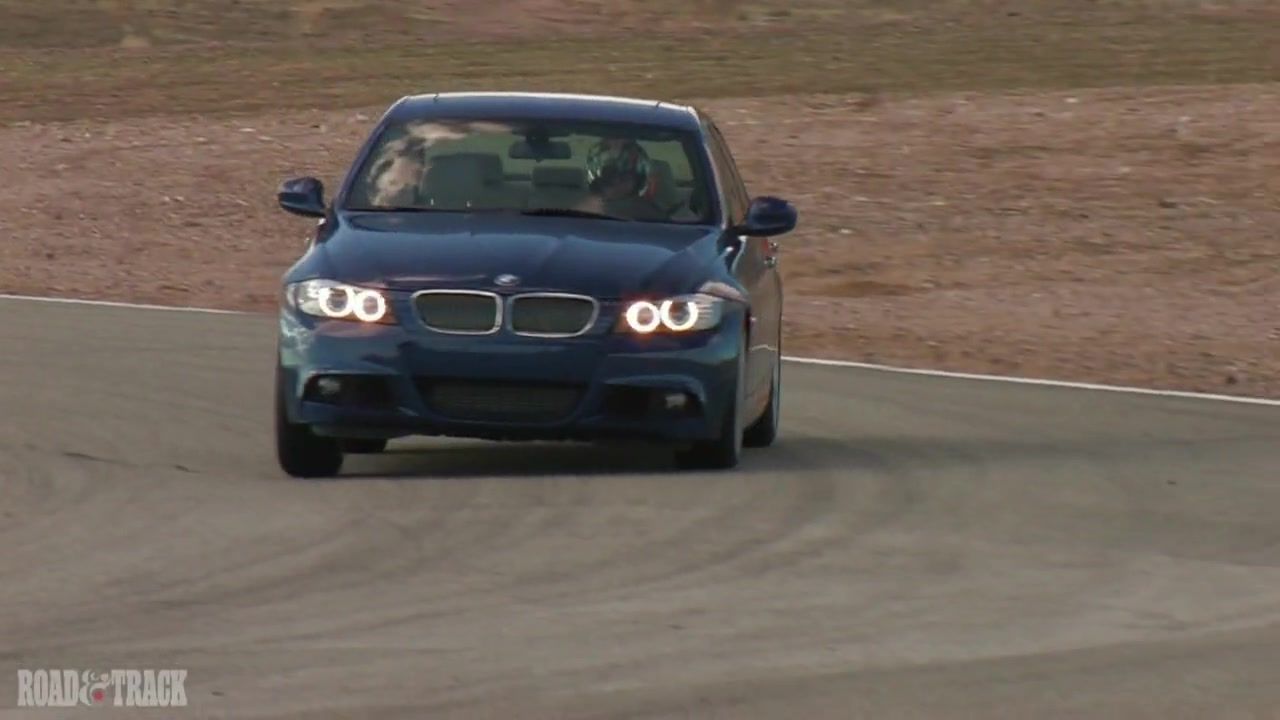car: (273, 92, 803, 474)
